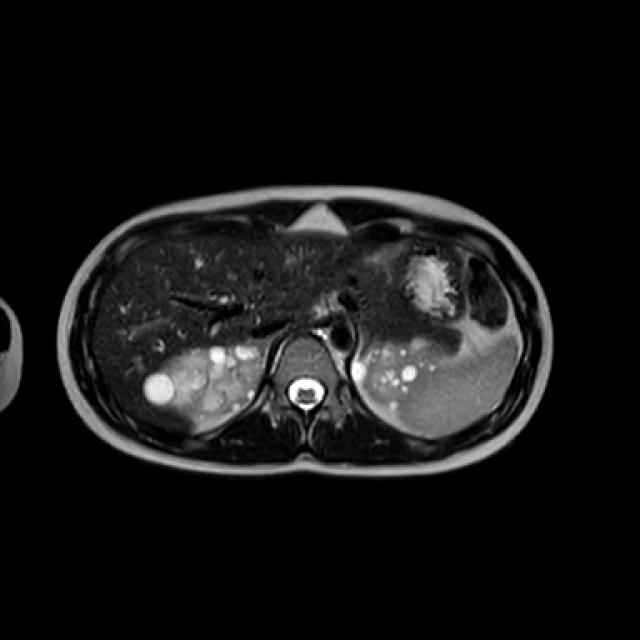Sol: (352, 334, 443, 409)
sag: (144, 344, 263, 432)
